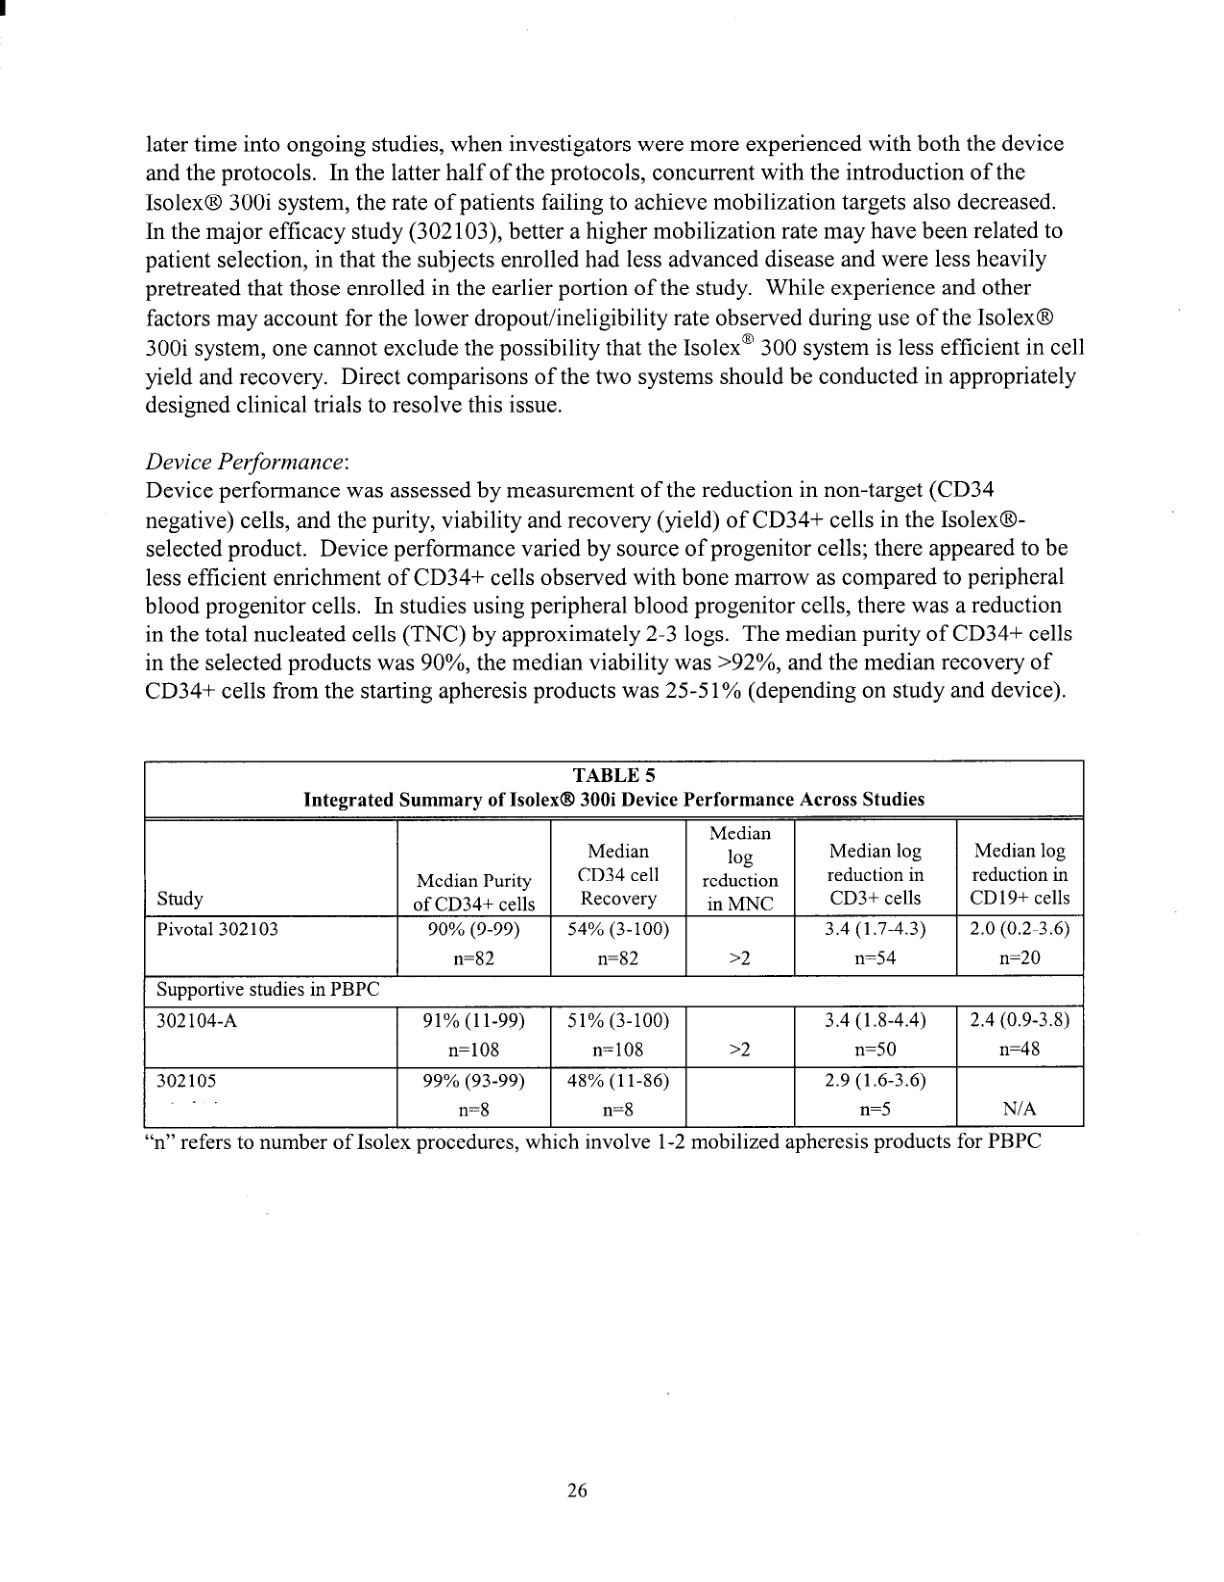merged_cells: (143, 759, 1085, 1127)
